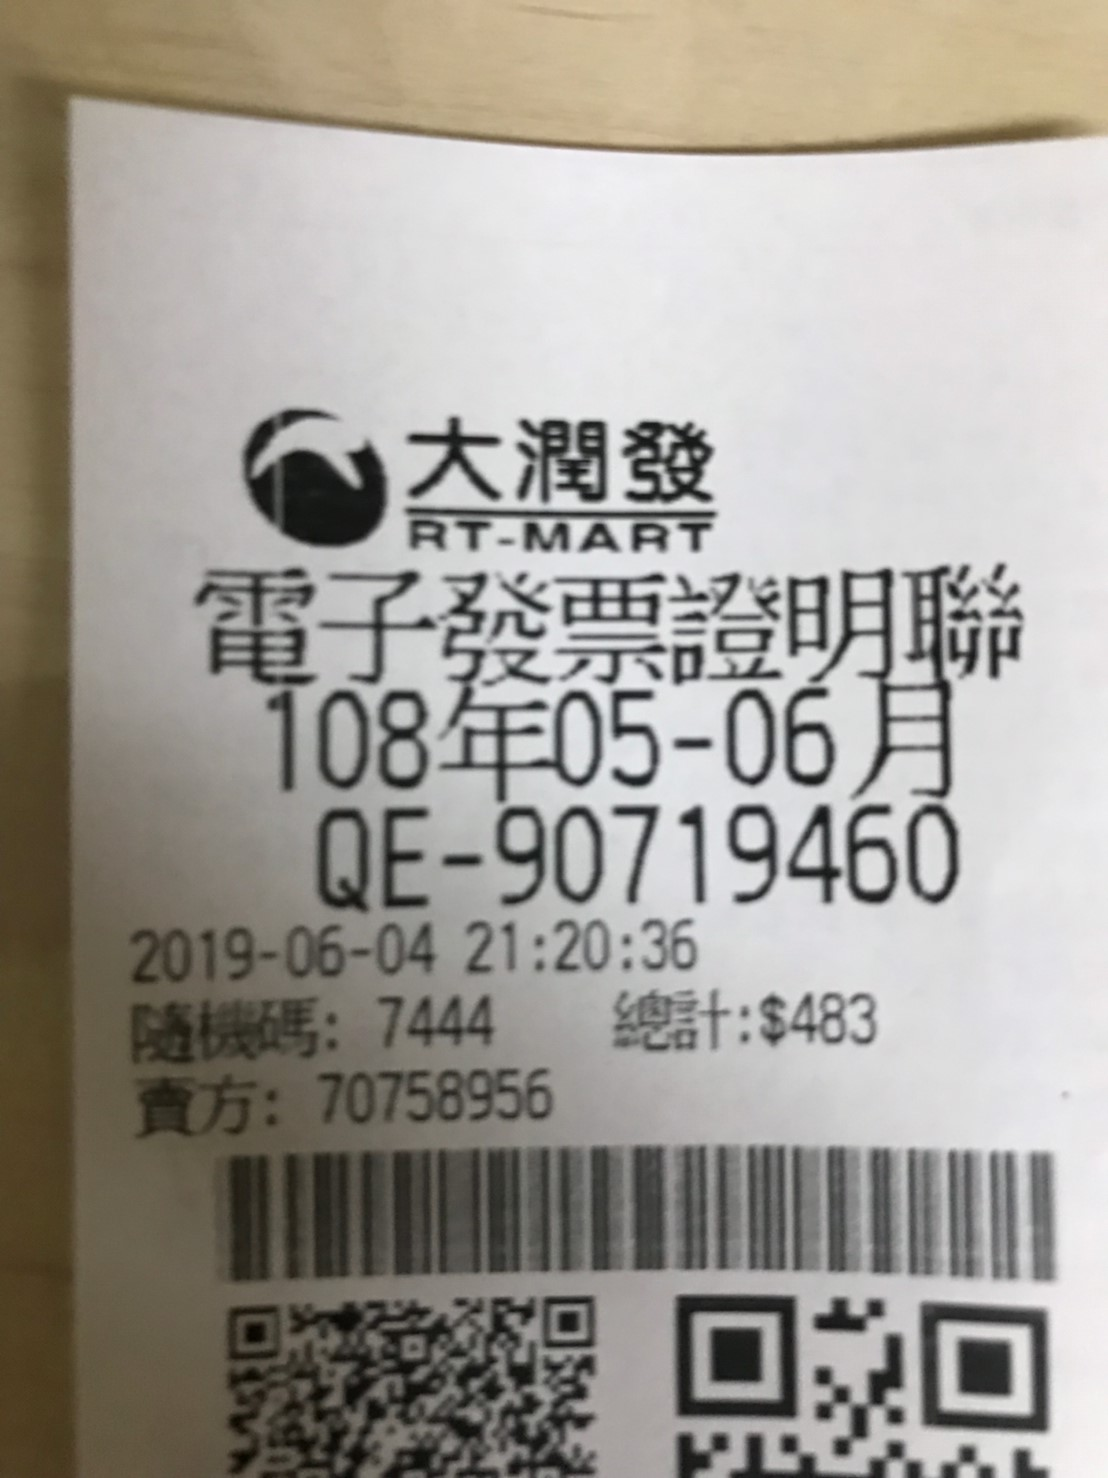Date_New: (267, 678, 957, 806)
Number_New: (492, 801, 963, 911)
